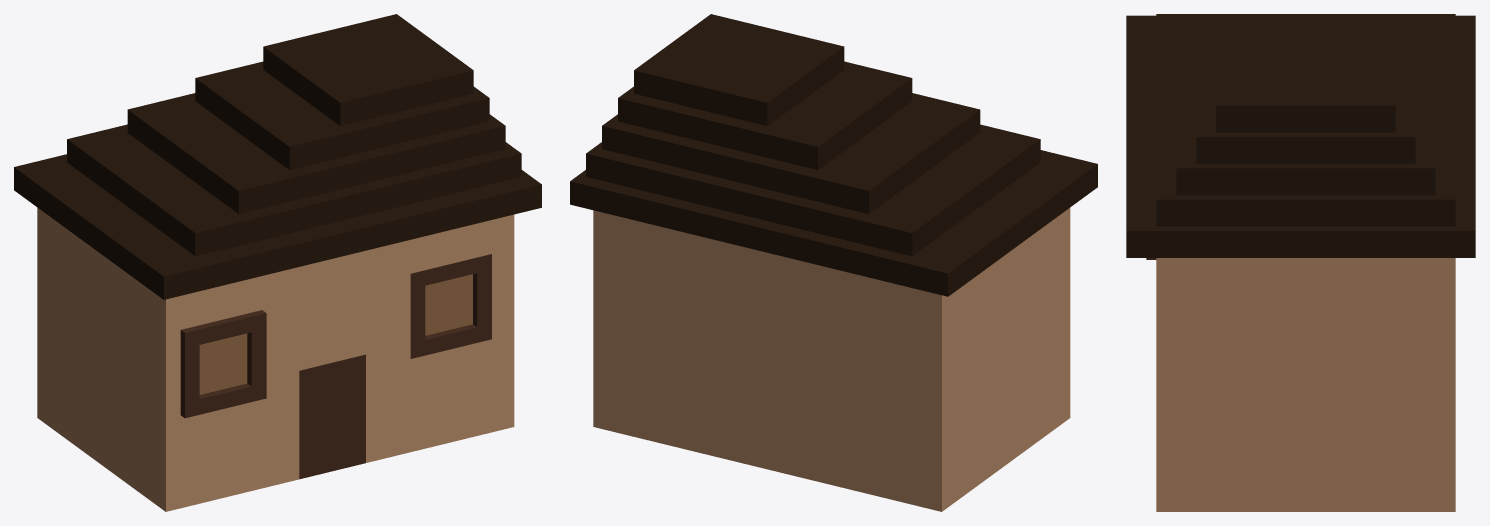
The model's file is house3.obj.
3 renders of one model, left to right at view 1: azimuth 30°, elevation 25°; view 2: azimuth 150°, elevation 25°; view 3: azimuth 270°, elevation 25°, orthographic. The views are drawn at different scales.
Size of the model in its own units: 5.1 by 4.4 by 3.5.
1 material, 1 textured.
